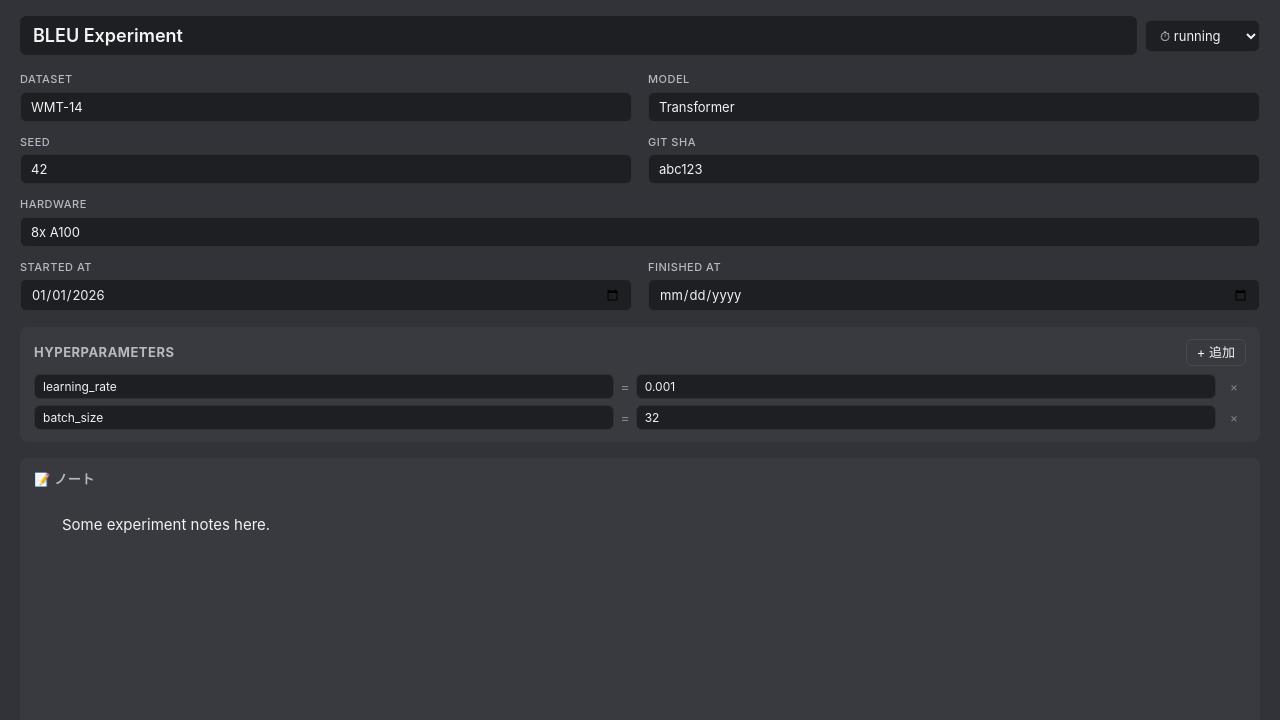
Test: ExperimentEditor actions › adds a hyperparameter row
The image size is (1280, 720).
Click the button "+ 追加" at (1216, 352), box [1186,339,1246,366]
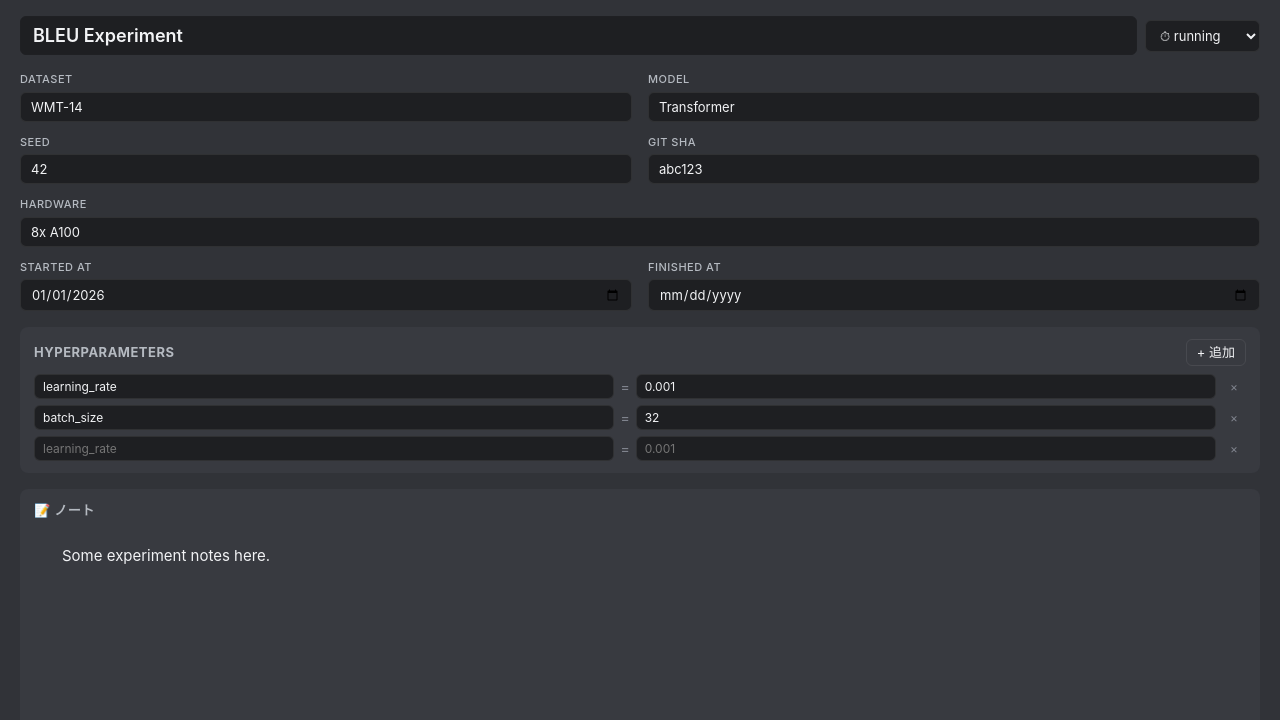
Now the number of elements with class "experiment-hp-row" is 3, box [34,374,1246,399]; [34,405,1246,430]; [34,436,1246,461]
